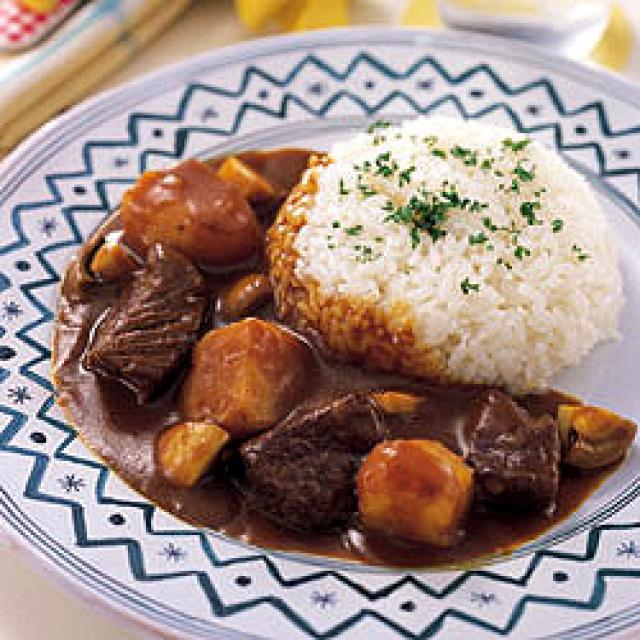牛肉菜式: (28, 84, 640, 566)
